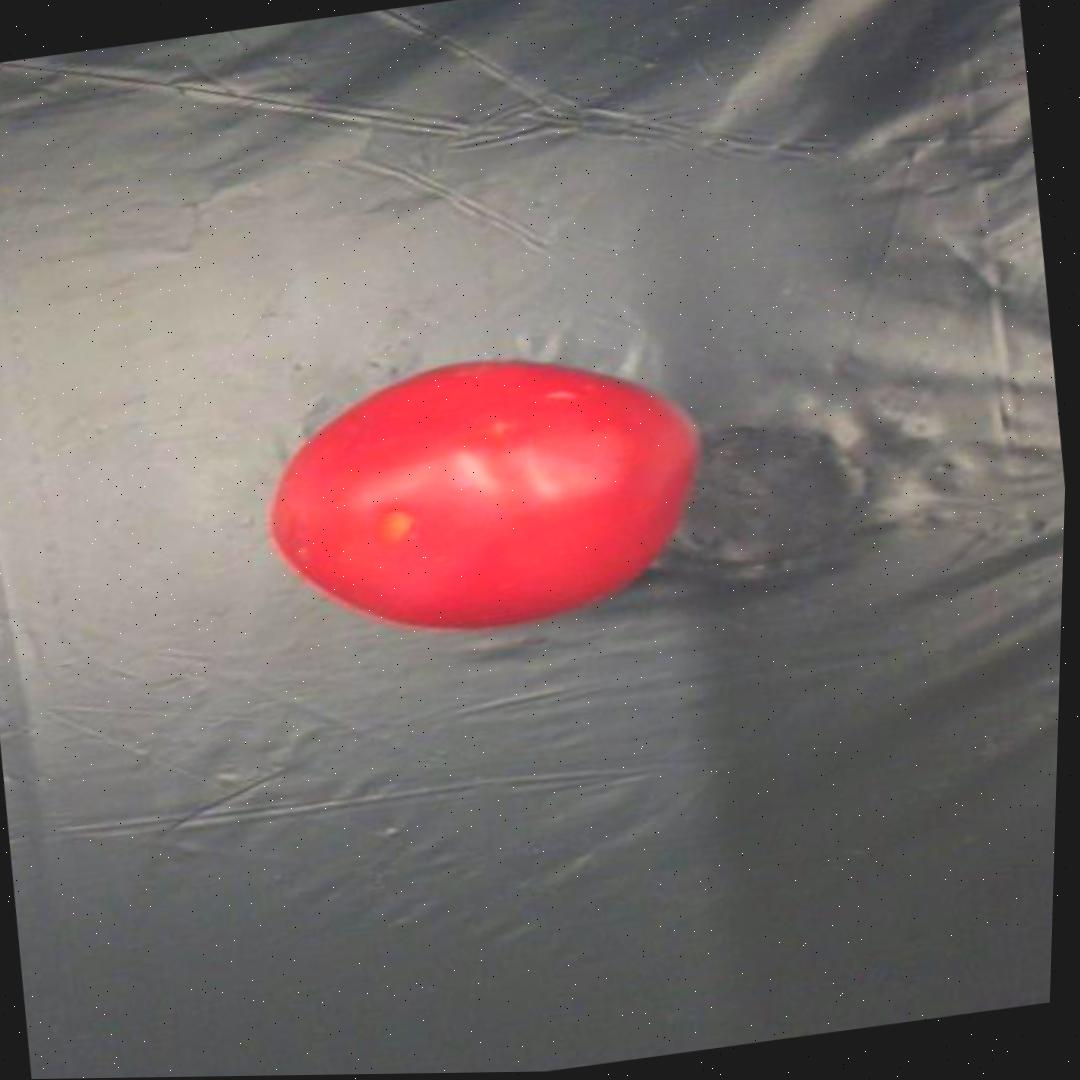matang: (248, 327, 722, 655)
